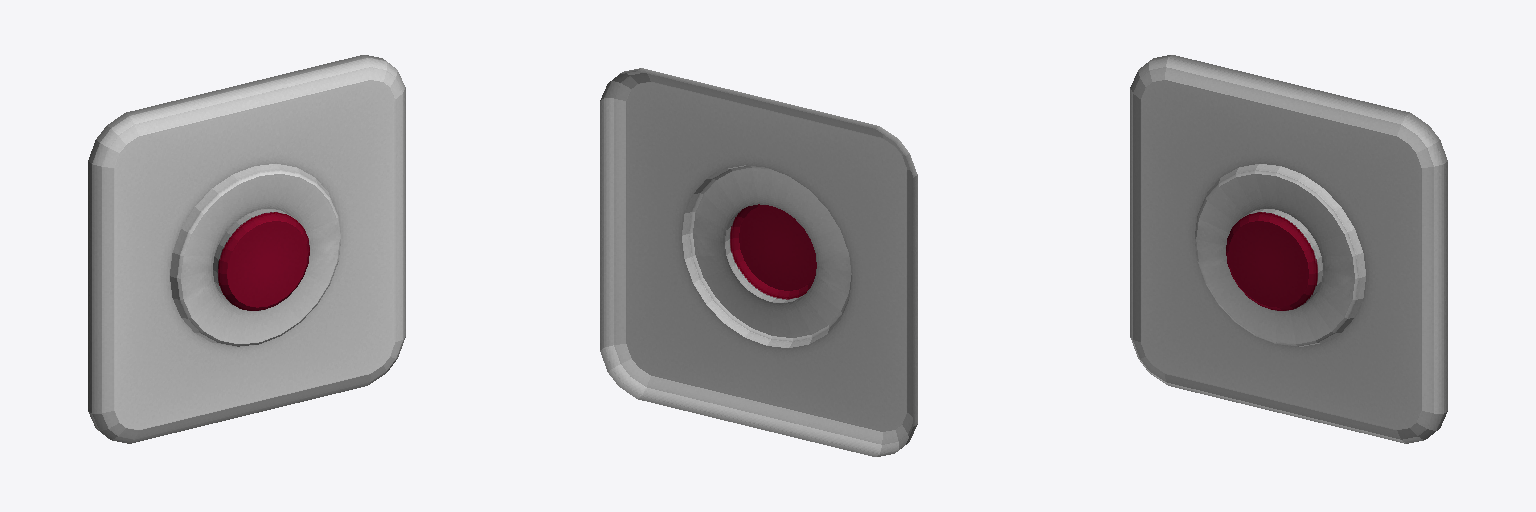
3 renders of one model, left to right at view 1: azimuth 30°, elevation 25°; view 2: azimuth 150°, elevation 25°; view 3: azimuth 330°, elevation 25°, orthographic.
Visible parts, largest first — view 1: switch_round_button_alarm_light; view 2: switch_round_button_alarm_light; view 3: switch_round_button_alarm_light.
Boxes of the visible parts, x1=… form: switch_round_button_alarm_light: x1=88, y1=55, x2=405, y2=443; switch_round_button_alarm_light: x1=600, y1=68, x2=917, y2=456; switch_round_button_alarm_light: x1=1130, y1=55, x2=1447, y2=443.
Bounding box in the file's own units: 0.0703 × 0.0703 × 0.0088.
Materials: 1 (1 with a texture image).